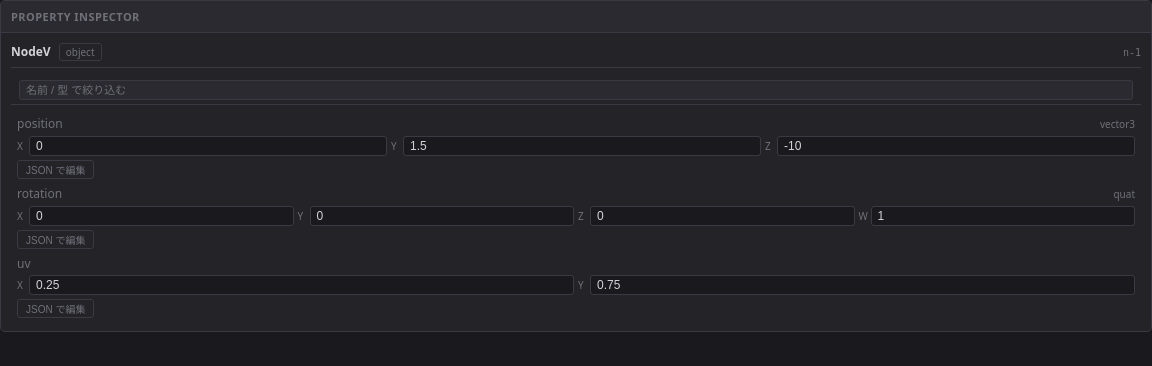
Test: PropertyInspectorPanel — vector editor › reports a rejected vector write inline
Replace the text in the number field named "position Y" with "9" at (582, 146), box [403, 136, 761, 156]
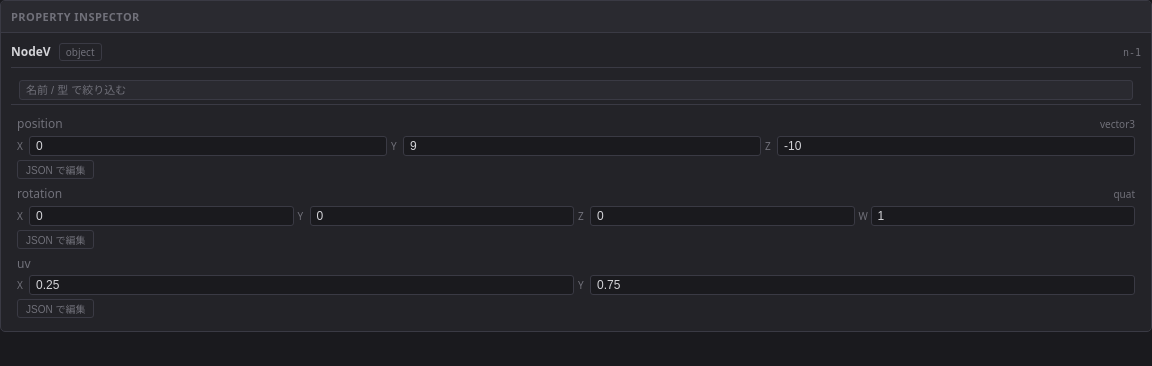
Leave the number field named "position Y", box [403, 136, 761, 156]
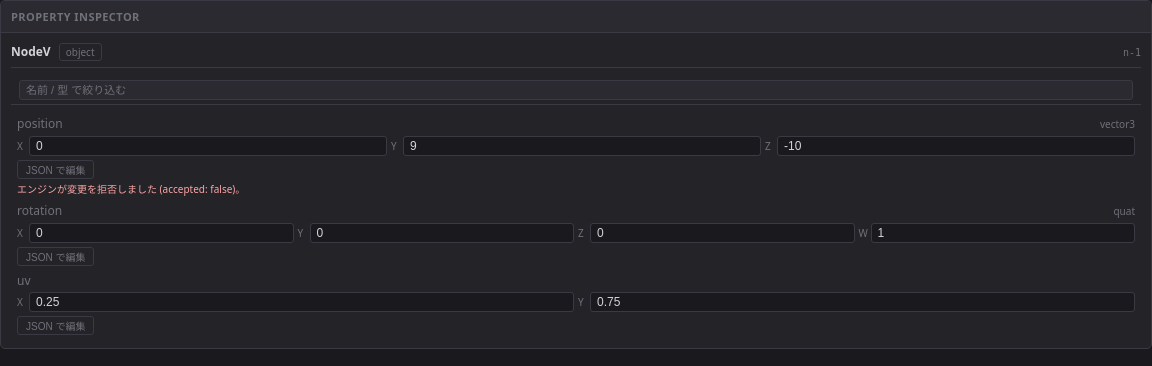
Expected: the text "エンジンが変更を拒否しました (accepted: false)。" is shown, [17, 182, 245, 196]
